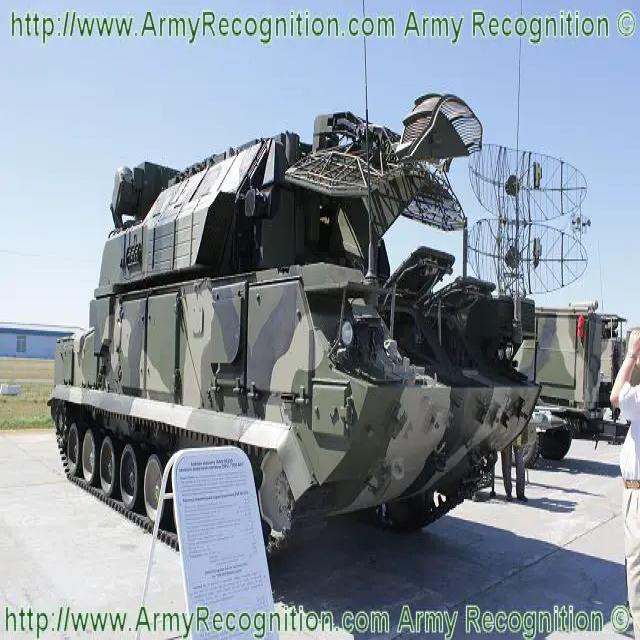MIL_EW_RDR: (53, 112, 526, 513)
